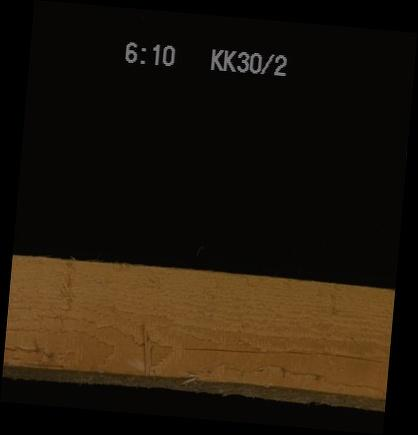split: (2, 370, 385, 403)
